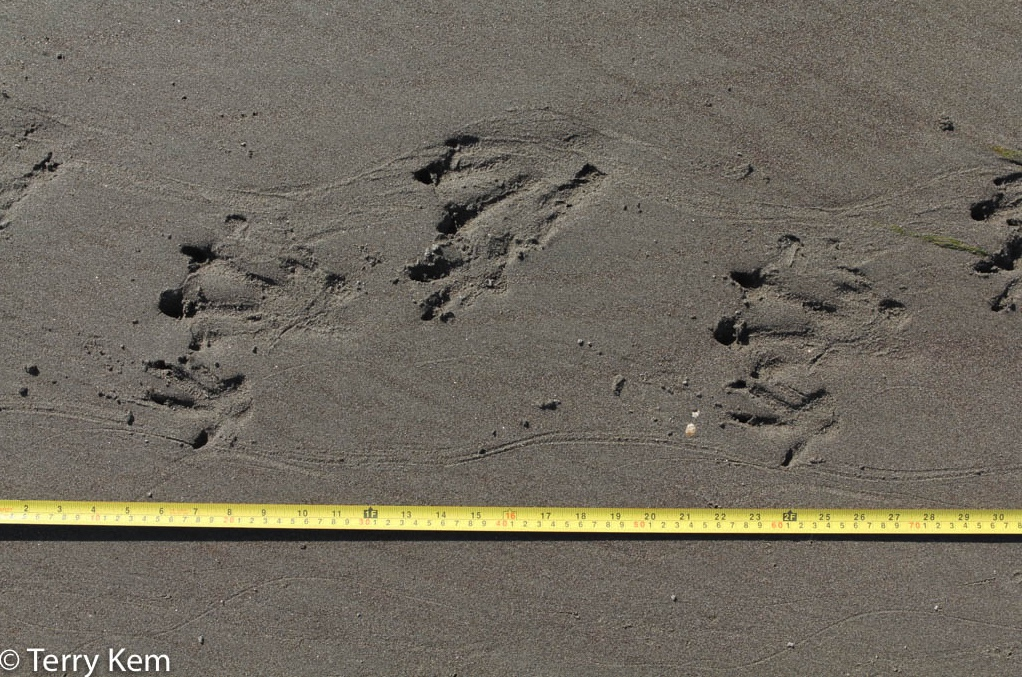castor: (402, 131, 604, 329), (709, 241, 921, 374), (152, 225, 362, 358), (725, 357, 834, 472), (142, 352, 257, 455)
